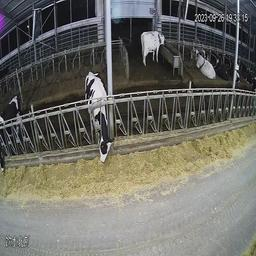cow: (82, 68, 113, 166), (1, 86, 36, 150), (139, 27, 166, 68), (192, 47, 215, 80), (213, 52, 229, 80)
